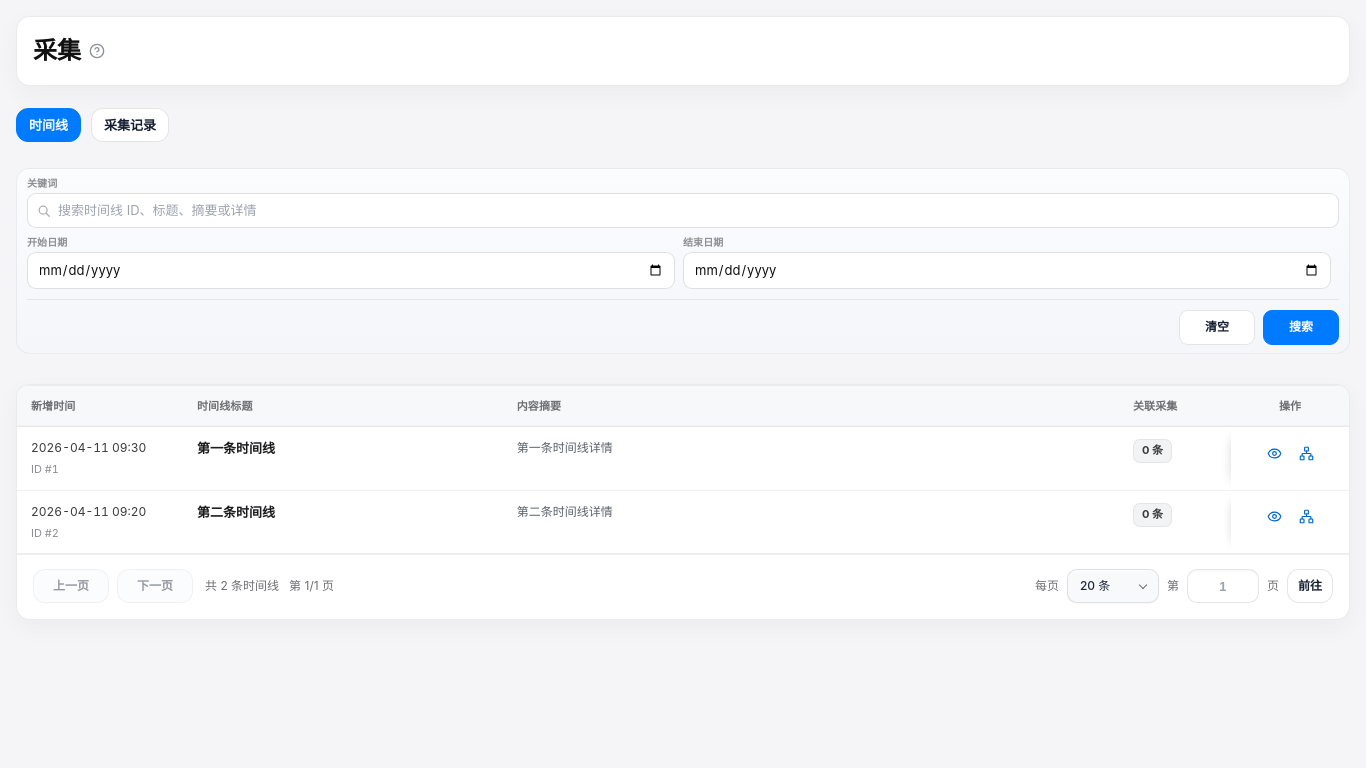
Test: 显式搜索交互 › RepositoryPanel 时间线默认仅展示表格，点击操作后再打开详情
Expected: the table named "时间线表格" is shown, [17,386,1349,553]
Click the button named "查看时间线：第一条时间线" at coordinates (1274, 453), box [1260,439,1288,467]
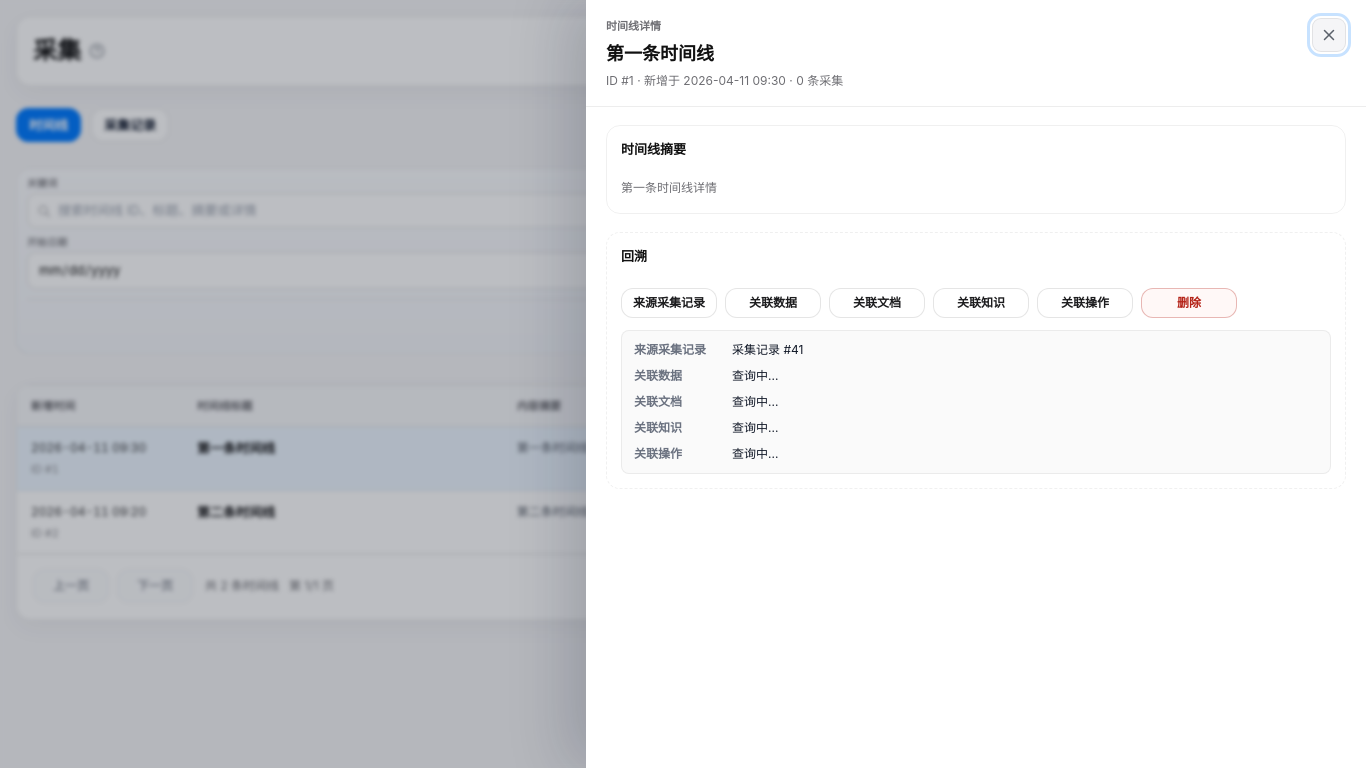
Expected: the text "第一条时间线详情" is shown, [621,180,717,195]
Press Escape
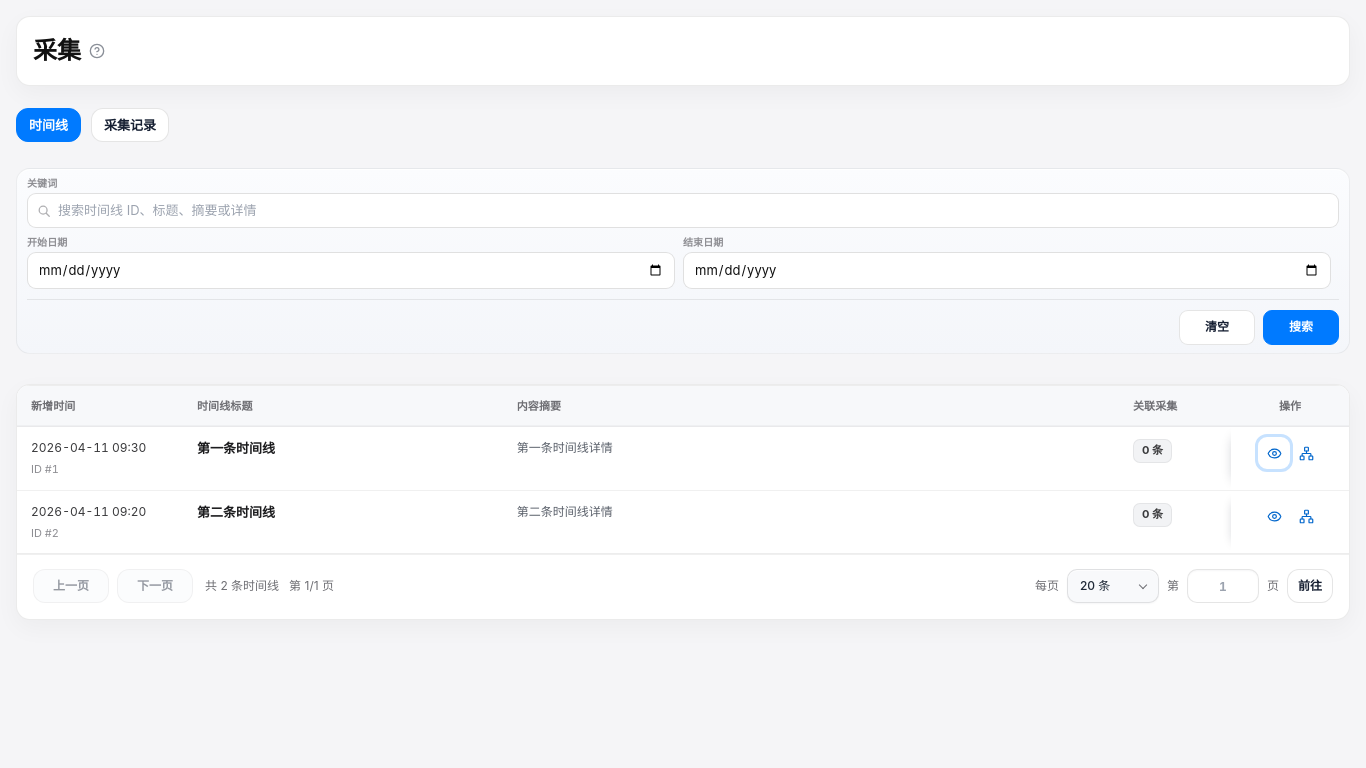
Expected: the dialog is gone
